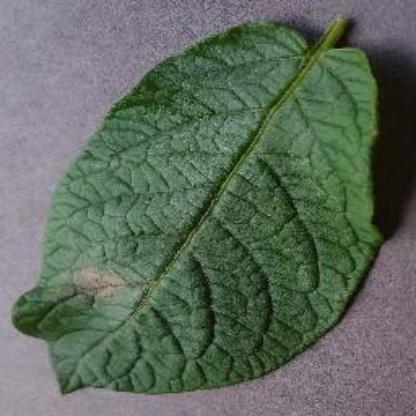Late-Blight: (14, 8, 388, 400)
